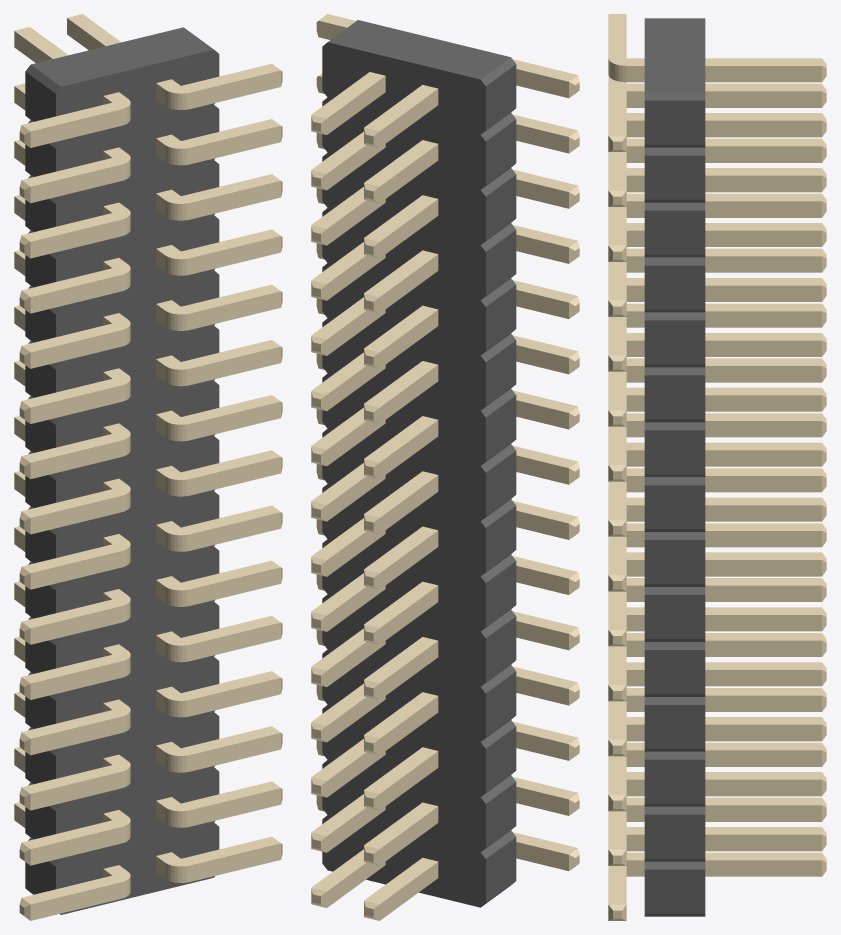
The model's file is PinHeader_2x15_P1.00mm_Vertical_SMD.glb.
The picture shows the model from 3 angles, left to right: view 1: azimuth 30°, elevation 25°; view 2: azimuth 150°, elevation 25°; view 3: azimuth 270°, elevation 25°; orthographic projection.
Parts seen in each view (by area): view 1: Shape_IndexedFaceSet.003, Shape_IndexedFaceSet.001, Shape_IndexedFaceSet.477, Shape_IndexedFaceSet.382, Shape_IndexedFaceSet.352, Shape_IndexedFaceSet.457, Shape_IndexedFaceSet.337, Shape_IndexedFaceSet.367, Shape_IndexedFaceSet.402, Shape_IndexedFaceSet.412, Shape_IndexedFaceSet.427, Shape_IndexedFaceSet.447 (+67 smaller); view 2: Shape_IndexedFaceSet.004, Shape_IndexedFaceSet.001, Shape_IndexedFaceSet.013, Shape_IndexedFaceSet.019, Shape_IndexedFaceSet.037, Shape_IndexedFaceSet.043, Shape_IndexedFaceSet.055, Shape_IndexedFaceSet.061, Shape_IndexedFaceSet.073, Shape_IndexedFaceSet.025, Shape_IndexedFaceSet.031, Shape_IndexedFaceSet.067 (+95 smaller); view 3: Shape_IndexedFaceSet.001, Shape_IndexedFaceSet.002, Shape_IndexedFaceSet.010, Shape_IndexedFaceSet.016, Shape_IndexedFaceSet.022, Shape_IndexedFaceSet.028, Shape_IndexedFaceSet.034, Shape_IndexedFaceSet.040, Shape_IndexedFaceSet.076, Shape_IndexedFaceSet.082, Shape_IndexedFaceSet.088, Shape_IndexedFaceSet.046 (+95 smaller).
Part boxes in pixels (x1,y1,x2,y2): Shape_IndexedFaceSet.003: [56, 49, 219, 914]; Shape_IndexedFaceSet.001: [31, 27, 213, 86]; Shape_IndexedFaceSet.477: [30, 772, 121, 810]; Shape_IndexedFaceSet.382: [30, 219, 121, 258]; Shape_IndexedFaceSet.352: [30, 606, 121, 644]; Shape_IndexedFaceSet.457: [30, 827, 121, 865]; Shape_IndexedFaceSet.337: [30, 661, 121, 699]; Shape_IndexedFaceSet.367: [30, 551, 121, 589]; Shape_IndexedFaceSet.402: [30, 330, 121, 368]; Shape_IndexedFaceSet.412: [30, 385, 121, 423]; Shape_IndexedFaceSet.427: [30, 109, 121, 147]; Shape_IndexedFaceSet.447: [30, 882, 121, 920]; Shape_IndexedFaceSet.004: [322, 42, 485, 907]; Shape_IndexedFaceSet.001: [328, 20, 510, 79]; Shape_IndexedFaceSet.013: [486, 119, 516, 185]; Shape_IndexedFaceSet.019: [486, 175, 516, 240]; Shape_IndexedFaceSet.037: [486, 340, 516, 405]; Shape_IndexedFaceSet.043: [486, 395, 516, 461]; Shape_IndexedFaceSet.055: [486, 506, 516, 571]; Shape_IndexedFaceSet.061: [486, 561, 516, 626]; Shape_IndexedFaceSet.073: [486, 671, 516, 737]; Shape_IndexedFaceSet.025: [486, 230, 516, 295]; Shape_IndexedFaceSet.031: [486, 285, 516, 350]; Shape_IndexedFaceSet.067: [486, 616, 516, 682]; Shape_IndexedFaceSet.001: [644, 18, 705, 92]; Shape_IndexedFaceSet.002: [644, 100, 705, 144]; Shape_IndexedFaceSet.010: [644, 155, 705, 199]; Shape_IndexedFaceSet.016: [644, 210, 705, 254]; Shape_IndexedFaceSet.022: [644, 265, 705, 309]; Shape_IndexedFaceSet.028: [644, 320, 705, 364]; Shape_IndexedFaceSet.034: [644, 375, 705, 419]; Shape_IndexedFaceSet.040: [644, 430, 705, 474]; Shape_IndexedFaceSet.076: [644, 759, 705, 803]; Shape_IndexedFaceSet.082: [644, 814, 705, 858]; Shape_IndexedFaceSet.088: [644, 869, 705, 913]; Shape_IndexedFaceSet.046: [644, 485, 705, 528].
Bounding box in the file's own units: 1.93 × 5.91 × 1.42.
